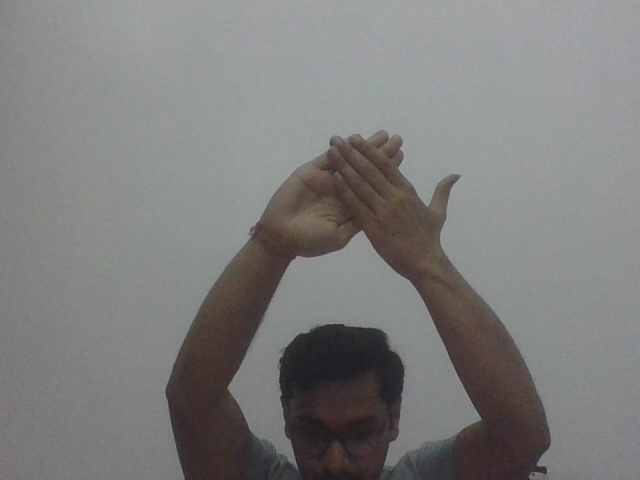H: (266, 124, 467, 256)
